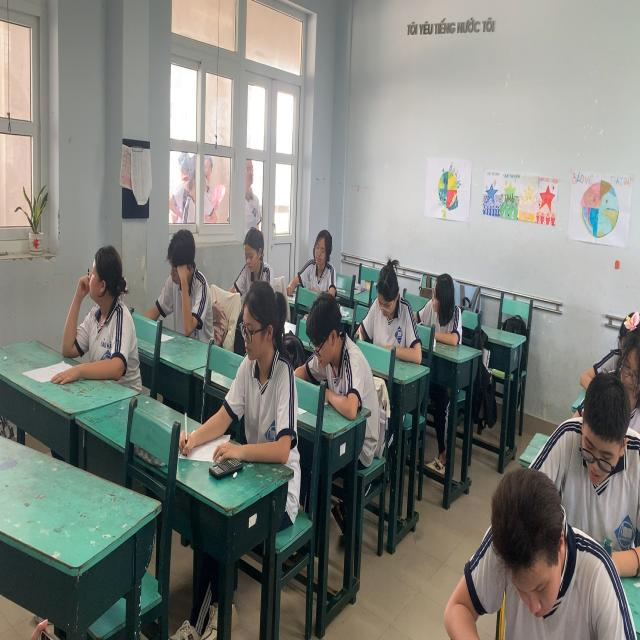cheating: (66, 239, 130, 384), (412, 268, 464, 350)
not_cheating: (457, 482, 595, 640), (225, 286, 299, 450), (577, 385, 640, 551), (301, 298, 363, 413), (362, 258, 418, 374), (159, 229, 212, 340), (295, 226, 344, 295), (606, 306, 640, 396), (235, 233, 272, 282)
